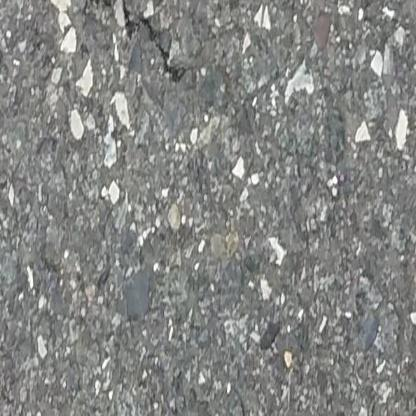Cracks: (74, 0, 190, 85)
